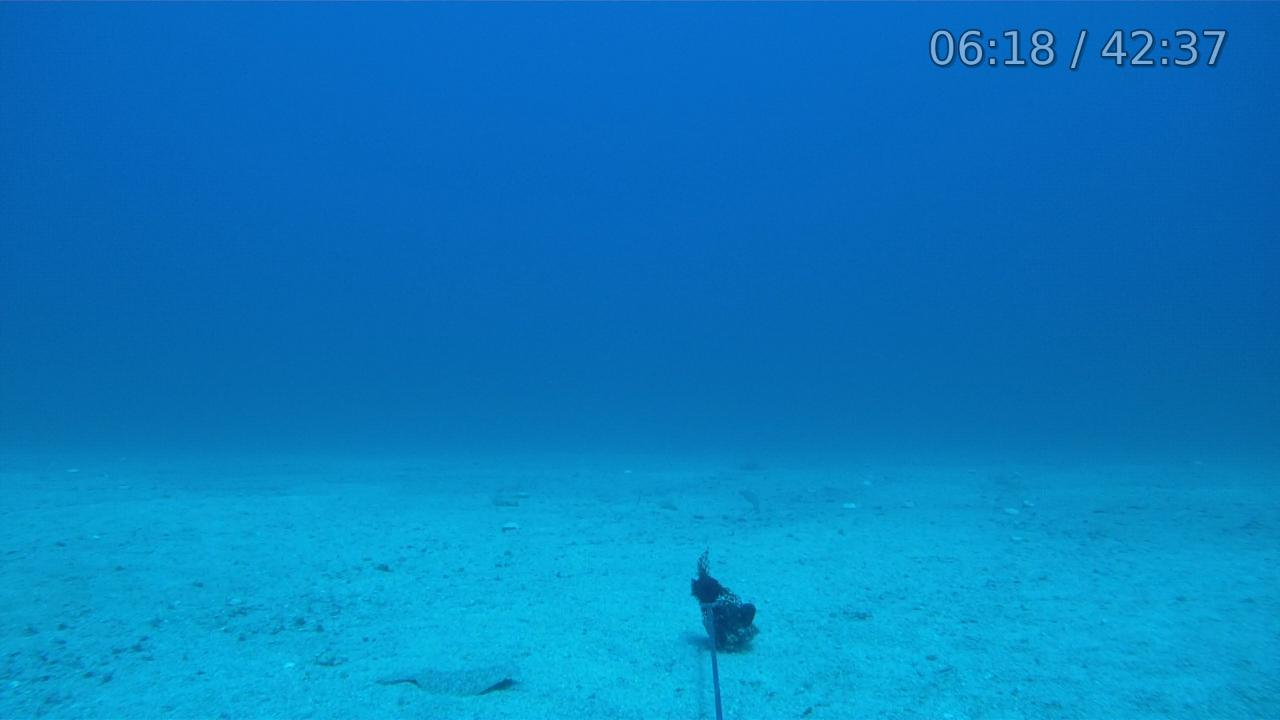bothus: (370, 656, 522, 698)
